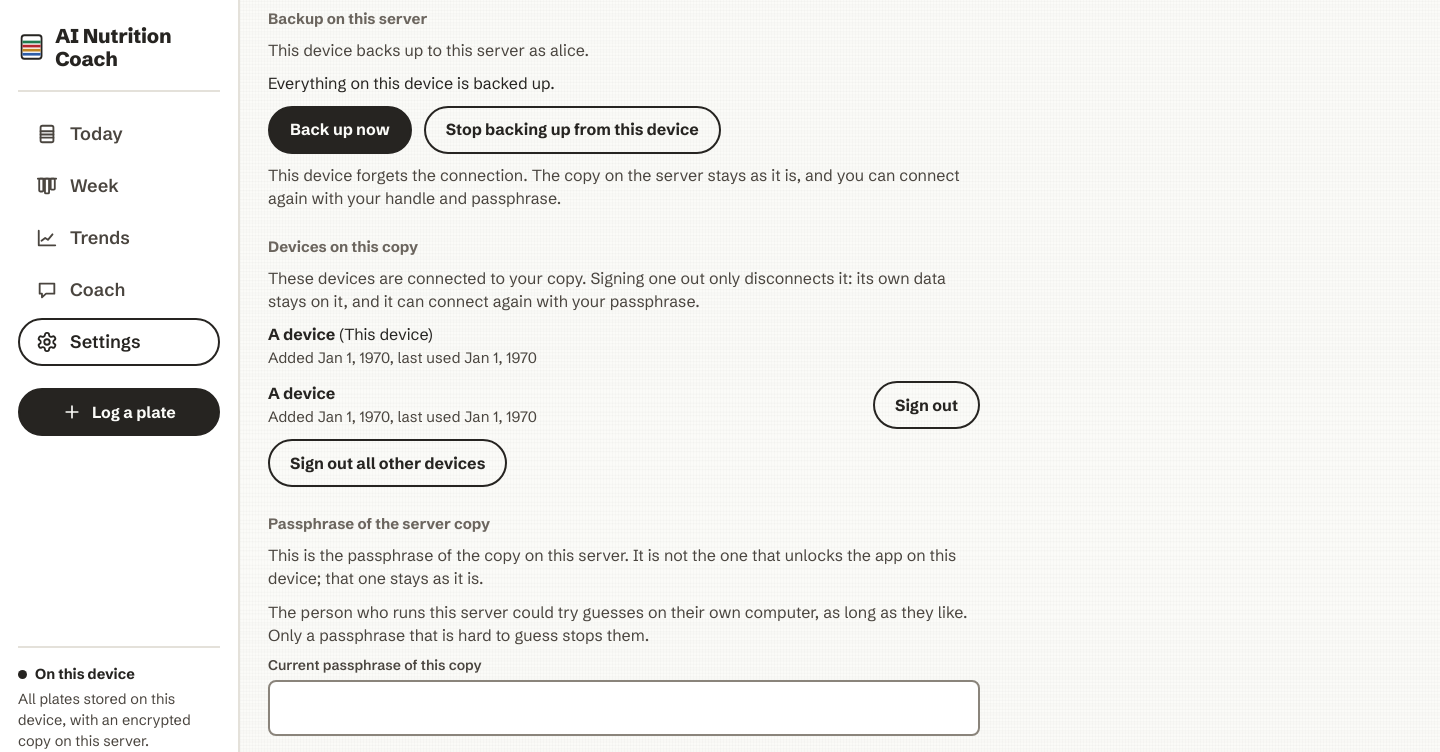
the server copy, connected › lists devices and signs out the others; the page passes axe
(page scrolled)
Check: the heading "Backup on this server" is shown, box [268,9,427,28]
What coordinates should you click on to do the following:
click the button "Sign out"
I would click on:
 (926, 405)
Its box is [873,381,980,429].
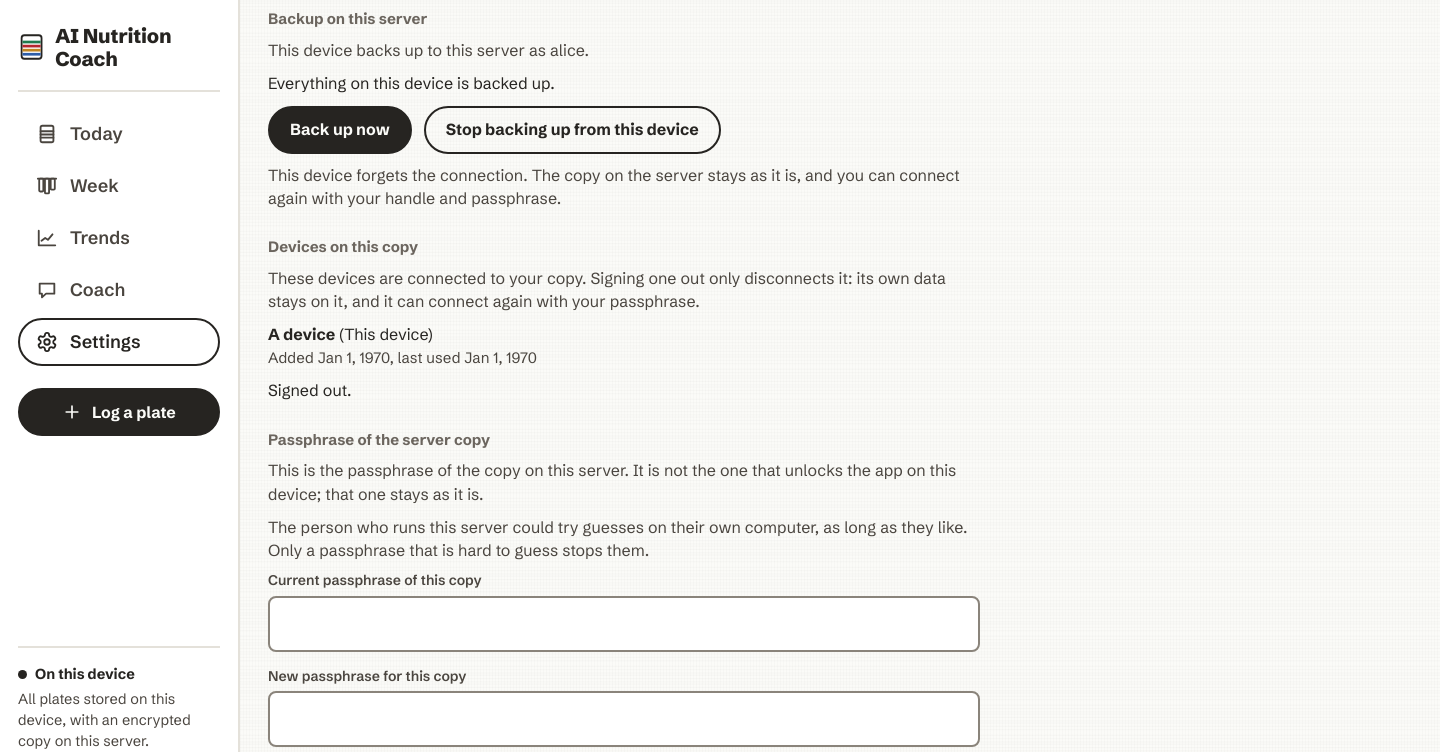
Check: the text "Signed out." is shown, box [268,380,352,400]
